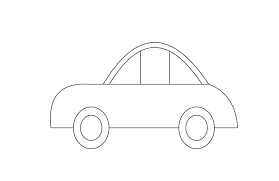car: (34, 33, 250, 157)
